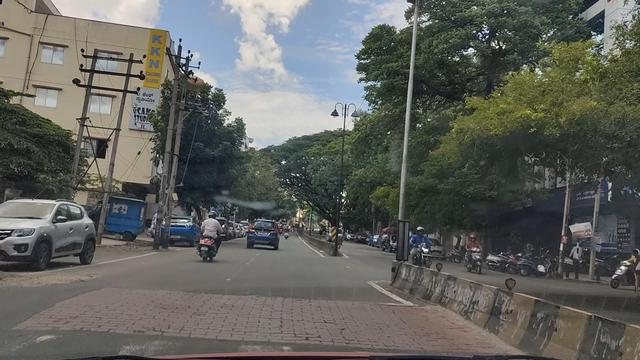LMV: (12, 195, 95, 275)
SpeedBump: (18, 268, 481, 360)
